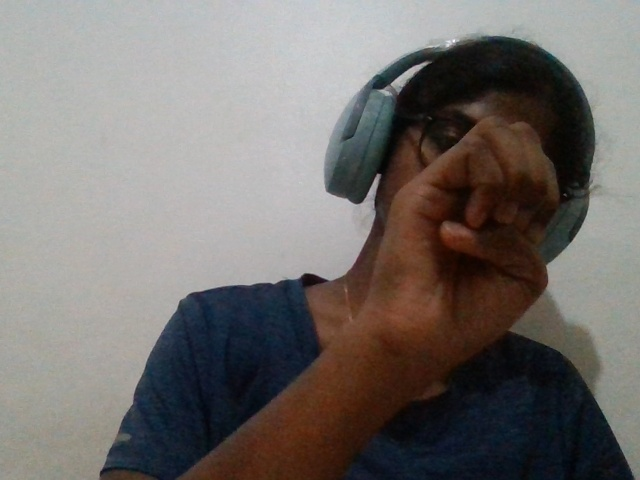E: (293, 89, 577, 431)
